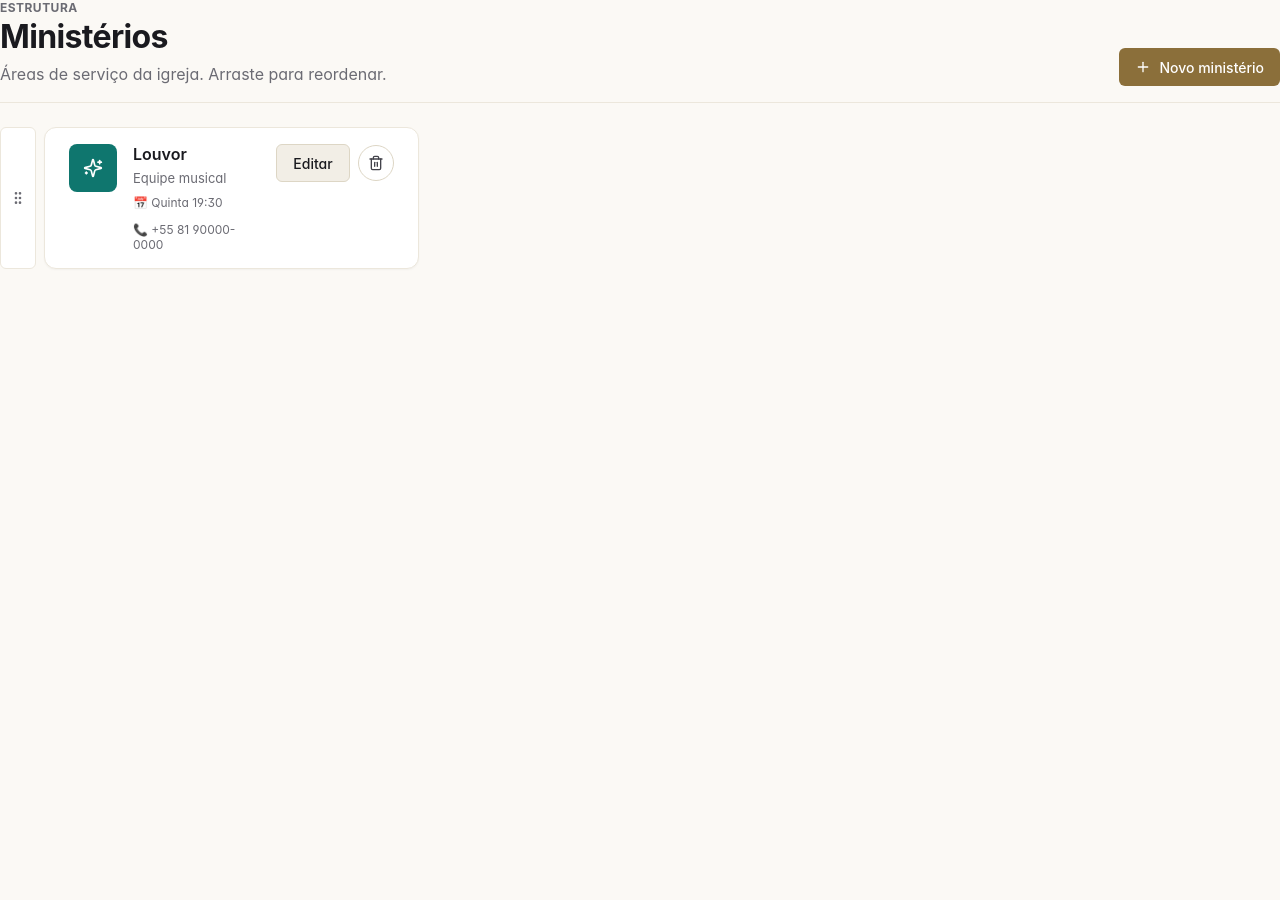
Test: MinistriesView › starts editing when 'Editar' is clicked
Click the button "Editar": (313, 163) x1=276 y1=144 x2=350 y2=182
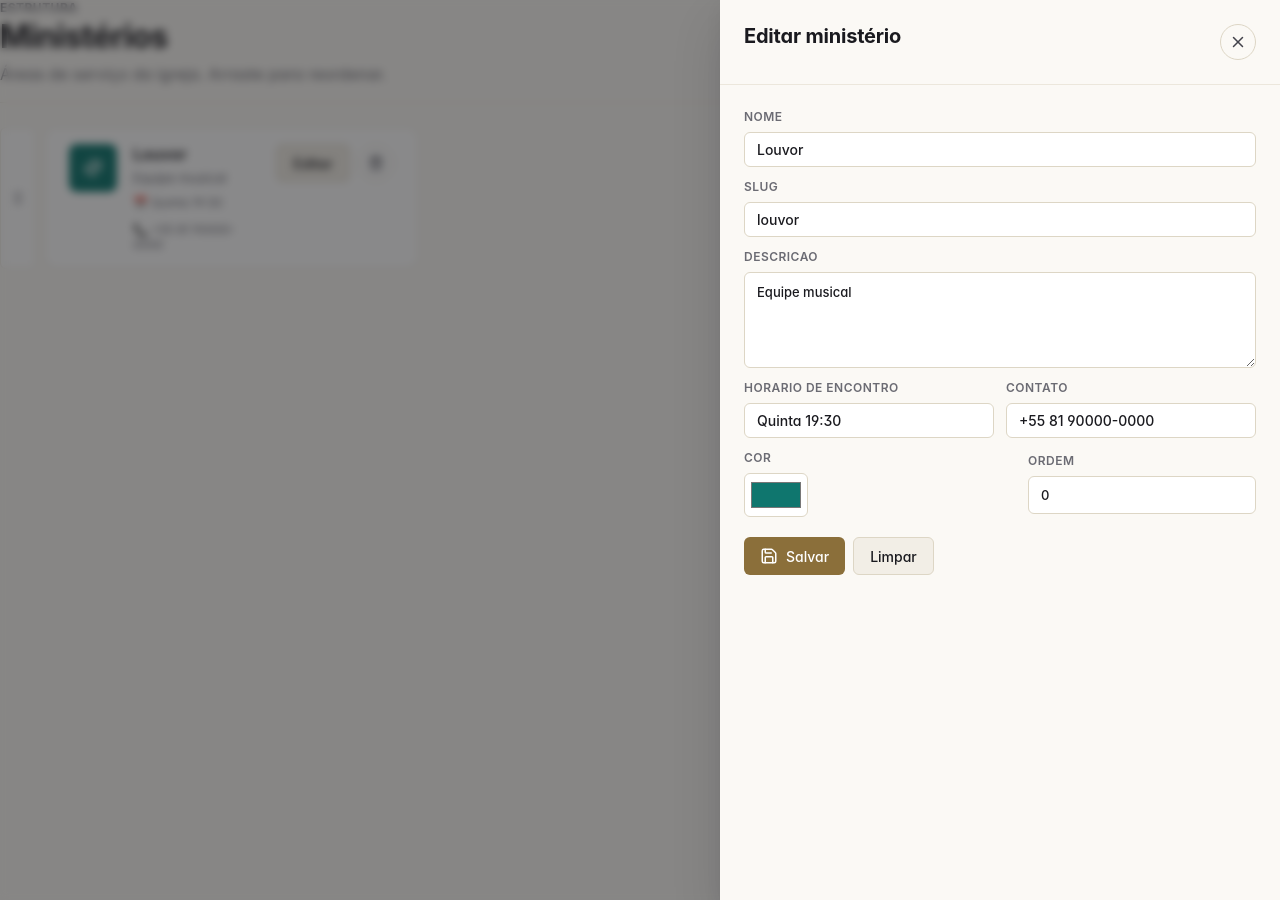
Now the field labelled "Slug" holds "louvor", box x1=744 y1=202 x2=1256 y2=237
